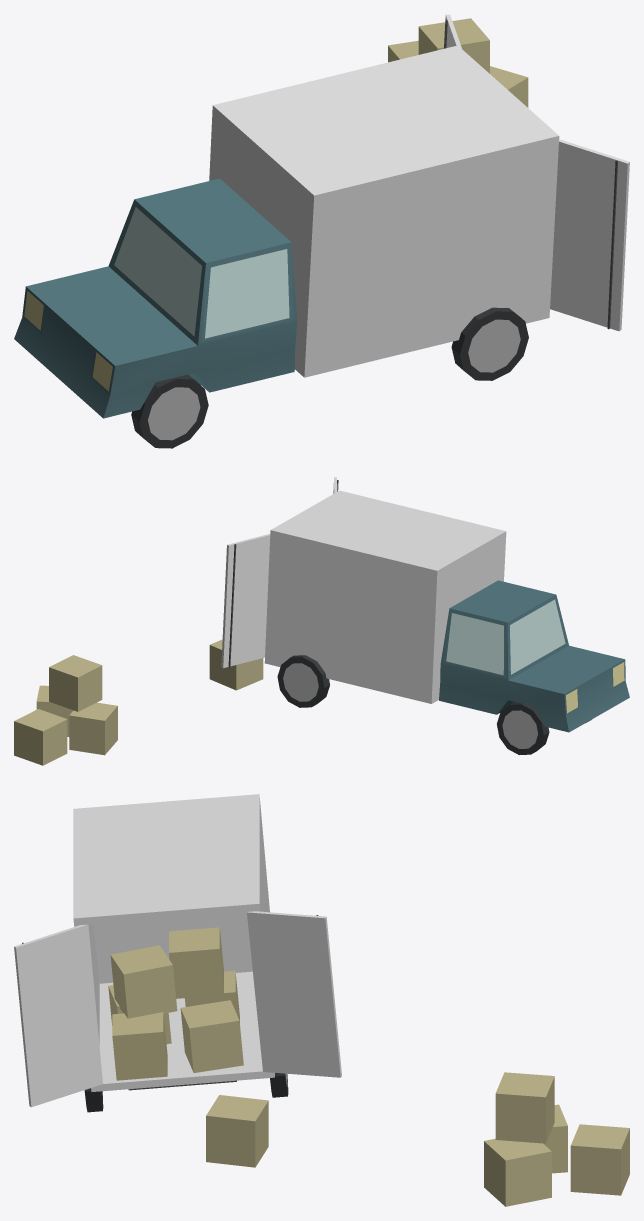
The model's file is Caminhao.FBX.
The picture shows the model from 3 angles, top to bottom: view 1: azimuth 30°, elevation 25°; view 2: azimuth 150°, elevation 25°; view 3: azimuth 270°, elevation 25°; orthographic projection. The views are drawn at different scales.
Visible parts, largest first — view 1: Caminhao; view 2: Caminhao; view 3: Caminhao.
Boxes of the visible parts, <box> form: Caminhao: <box>14,14,629,448</box>; Caminhao: <box>14,477,629,765</box>; Caminhao: <box>14,794,629,1206</box>.
Size of the model in its own units: 275 by 103 by 248.
